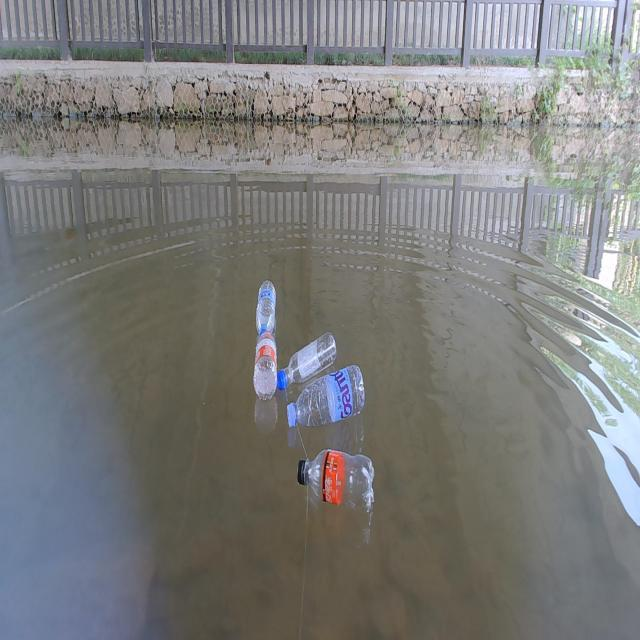garbage: (297, 448, 375, 514), (286, 364, 365, 429), (277, 331, 337, 389), (253, 332, 277, 400), (255, 279, 277, 337)
